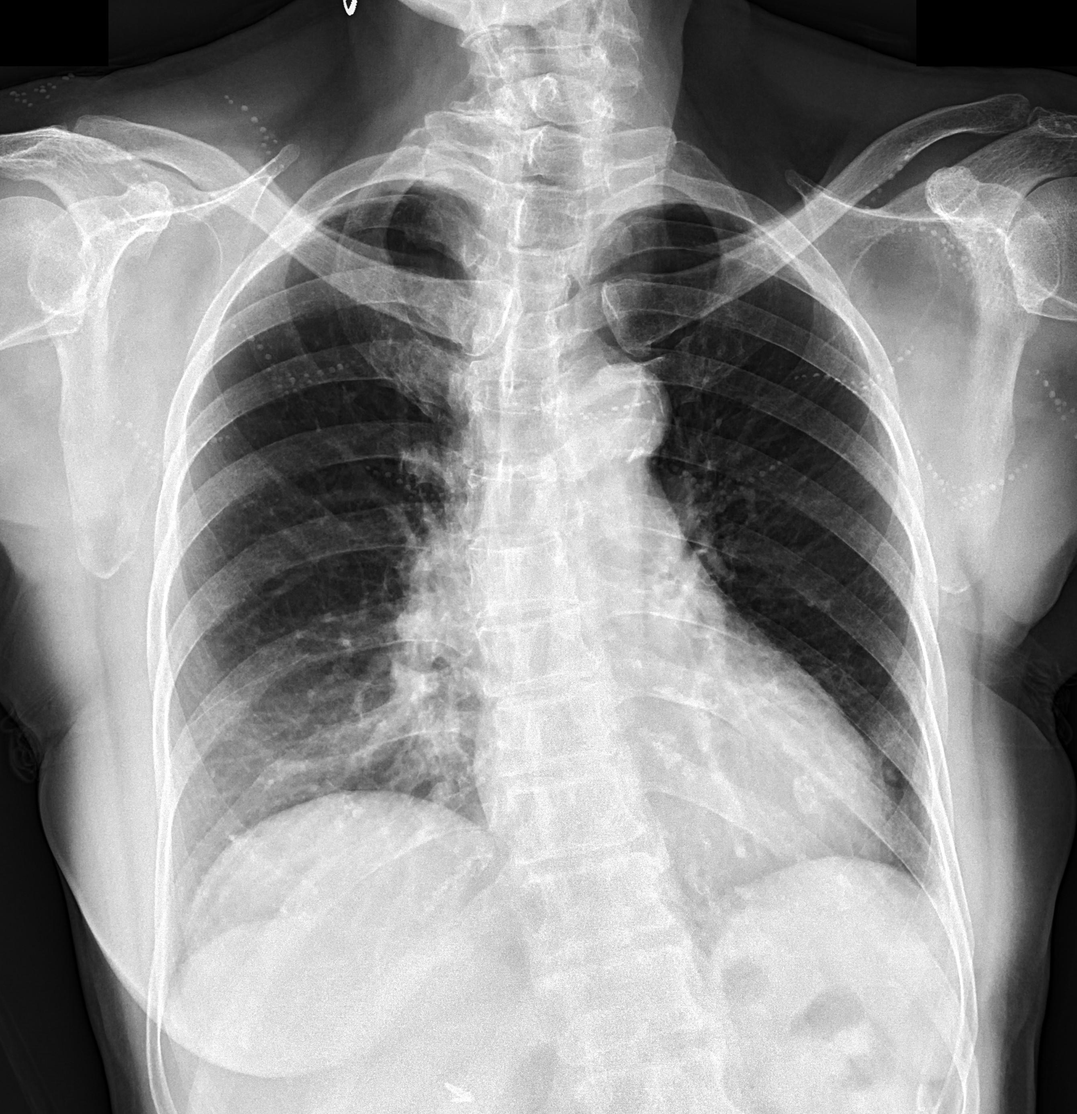Aortic enlargement: (553, 360, 672, 463)
Cardiomegaly: (470, 772, 897, 877)
Pleural thickening: (289, 172, 473, 229)
